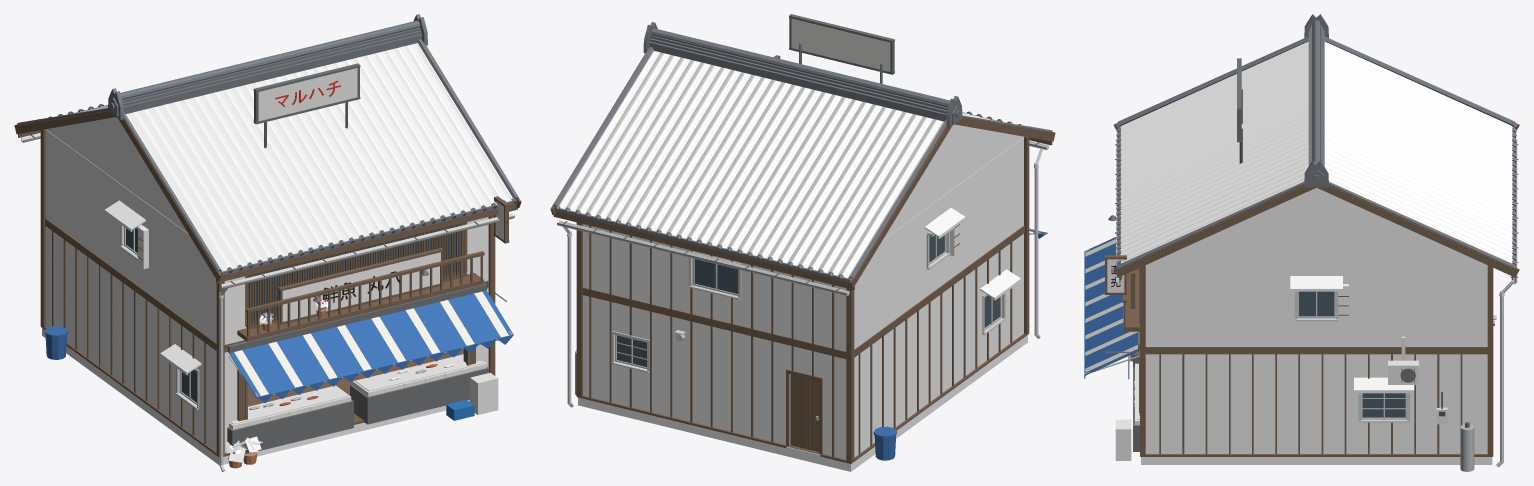
File: shop_fish.glb
3 views of the same model, side by side, from view 1: azimuth 30°, elevation 25°; view 2: azimuth 150°, elevation 25°; view 3: azimuth 270°, elevation 25° (orthographic).
Visible parts, largest first — view 1: shop_fish_body; view 2: shop_fish_body; view 3: shop_fish_body.
Boxes of the visible parts, box(x1,y1,x2,y2) form: shop_fish_body: box(14, 14, 521, 471); shop_fish_body: box(550, 14, 1055, 471); shop_fish_body: box(1084, 14, 1519, 471).
Size of what is drawn, in the model's own units: 9.28 by 9.02 by 11.26.
